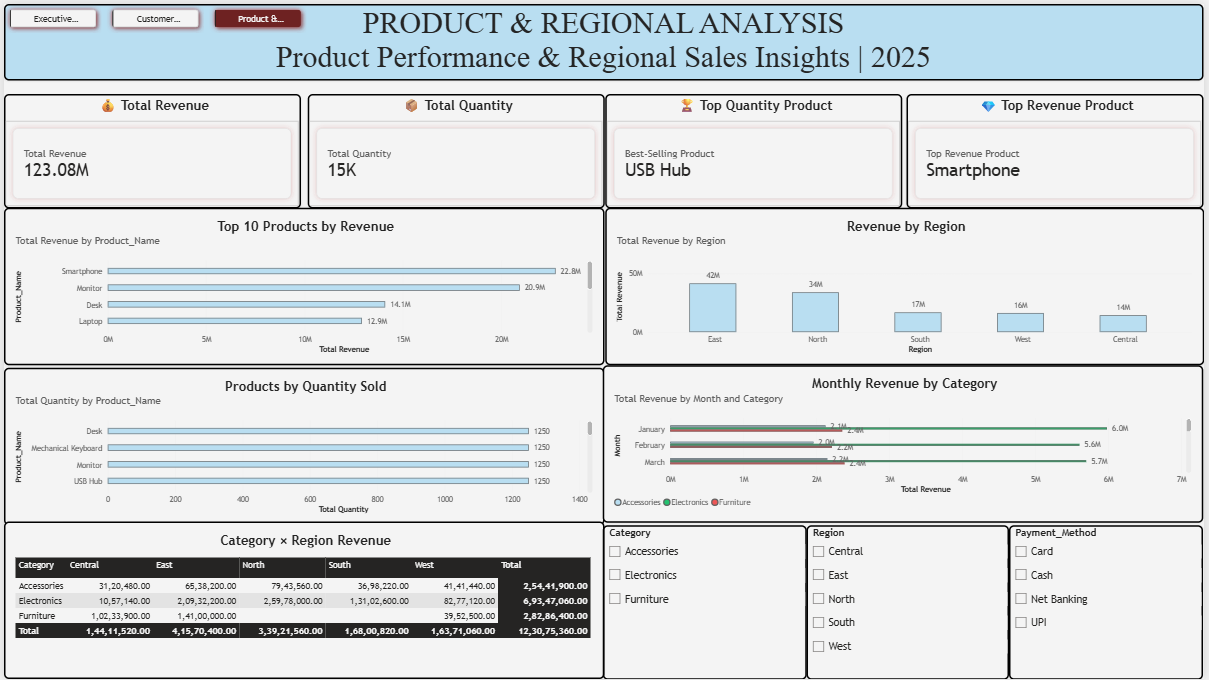

The dashboard page shown, as its layout file describes it:
{"tool":"powerbi","page":{"name":"Product & Regional Analysis","canvas":[1920,1080],"ordinal":2},"visuals":[{"type":"textbox","box":[10,0,280,280],"z":0},{"type":"textbox","box":[0,0,1919.5,122.1],"z":1},{"type":"cardVisual","title":"💰 Total Revenue","fields":{"Data":["retail_analytics sales.Total Revenue"]},"box":[0,143.4,475.2,183.2],"z":2},{"type":"cardVisual","title":"📦 Total Quantity","fields":{"Data":["retail_analytics sales.Total Quantity"]},"box":[485.8,143.4,475.2,183.2],"z":3},{"type":"cardVisual","title":"💎 Top Revenue Product","fields":{"Data":["retail_analytics sales.Top Revenue Product"]},"box":[1444.3,143.4,475.2,183.2],"z":4},{"type":"cardVisual","title":"🏆 Top Quantity Product","fields":{"Data":["retail_analytics sales.Best-Selling Product"]},"box":[961.1,143.4,475.2,183.2],"z":5},{"type":"clusteredBarChart","title":"Top 10 Products by Revenue","fields":{"Category":["retail_analytics sales.Product_Name"],"Y":["retail_analytics sales.Total Revenue"]},"box":[0,326.6,961.1,252.2],"z":6},{"type":"clusteredColumnChart","title":"Revenue by Region","fields":{"Category":["retail_analytics sales.Region"],"Y":["retail_analytics sales.Total Revenue"]},"box":[961.1,326.6,958.4,252.2],"z":7},{"type":"clusteredBarChart","title":"Products by Quantity Sold","fields":{"Category":["retail_analytics sales.Product_Name"],"Y":["retail_analytics sales.Total Quantity"]},"box":[0,581.4,961.1,252.2],"z":8},{"type":"clusteredBarChart","title":"Monthly Revenue by Category","fields":{"Category":["retail_analytics sales.Order_Date.Variation.Date Hierarchy.Month"],"Series":["retail_analytics sales.Category"],"Y":["retail_analytics sales.Total Revenue"]},"box":[958.4,578.8,961.1,252.2],"z":9},{"type":"pivotTable","title":"Category × Region Revenue","fields":{"Columns":["retail_analytics sales.Region"],"Rows":["retail_analytics sales.Category"],"Values":["retail_analytics sales.Total Revenue"]},"box":[0,828.3,961.1,252.2],"z":10},{"type":"slicer","title":"💰 Total Revenue","fields":{"Values":["retail_analytics sales.Category"]},"box":[958.4,833.6,326.6,246.9],"z":12},{"type":"slicer","title":"💰 Total Revenue","fields":{"Values":["retail_analytics sales.Region"]},"box":[1285,833.6,323.9,246.9],"z":13},{"type":"slicer","title":"💰 Total Revenue","fields":{"Values":["retail_analytics sales.Payment_Method"]},"box":[1608.9,833.6,310.6,246.9],"z":14},{"type":"pageNavigator","box":[0,0,486,46.4],"z":15}]}

Visuals, with their boxes in screenshot pixels (x1, y1, x2, y2):
textbox: bbox=(9, 3, 183, 177)
textbox: bbox=(3, 3, 1195, 79)
"💰 Total Revenue" cardVisual: bbox=(3, 92, 298, 206)
"📦 Total Quantity" cardVisual: bbox=(305, 92, 600, 206)
"💎 Top Revenue Product" cardVisual: bbox=(900, 92, 1195, 206)
"🏆 Top Quantity Product" cardVisual: bbox=(600, 92, 895, 206)
"Top 10 Products by Revenue" clusteredBarChart: bbox=(3, 206, 600, 363)
"Revenue by Region" clusteredColumnChart: bbox=(600, 206, 1195, 363)
"Products by Quantity Sold" clusteredBarChart: bbox=(3, 364, 600, 521)
"Monthly Revenue by Category" clusteredBarChart: bbox=(598, 363, 1195, 519)
"Category × Region Revenue" pivotTable: bbox=(3, 518, 600, 674)
"💰 Total Revenue" slicer: bbox=(598, 521, 801, 674)
"💰 Total Revenue" slicer: bbox=(801, 521, 1002, 674)
"💰 Total Revenue" slicer: bbox=(1002, 521, 1195, 674)
pageNavigator: bbox=(3, 3, 305, 32)
